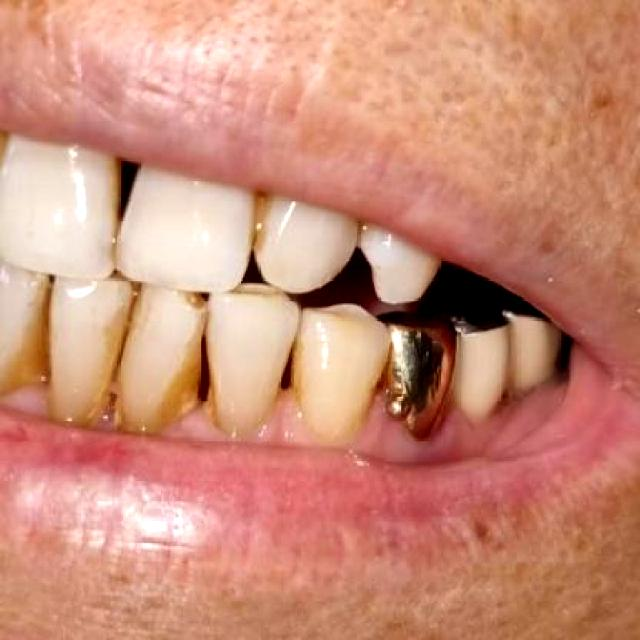Plaque: (357, 393, 418, 449), (430, 401, 476, 443), (158, 407, 215, 437), (0, 383, 45, 414), (96, 401, 120, 429)
